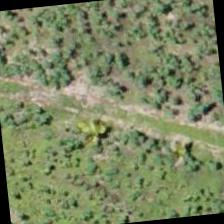Kelapa_Sawit: (20, 0, 115, 56)
